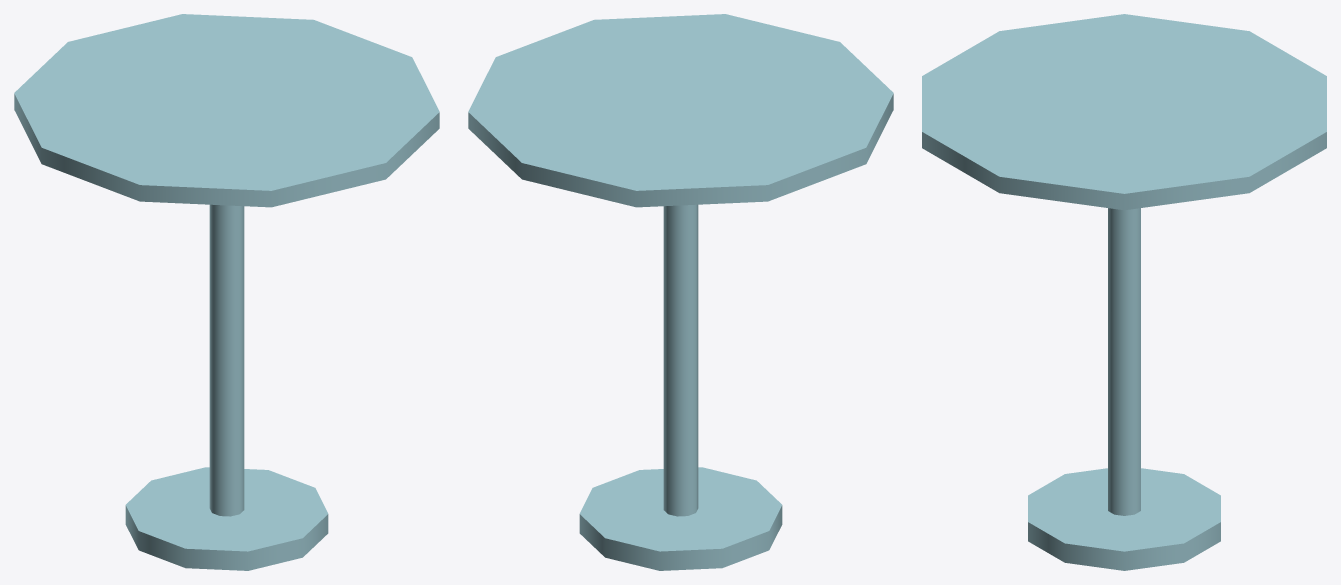
3 views of the same model, side by side, from view 1: azimuth 30°, elevation 25°; view 2: azimuth 150°, elevation 25°; view 3: azimuth 270°, elevation 25° (orthographic).
Visible parts, largest first — view 1: table_017; view 2: table_017; view 3: table_017.
Part boxes in pixels (x1,y1,x2,y2): table_017: (14, 14, 439, 570); table_017: (468, 14, 893, 570); table_017: (922, 14, 1326, 570).
Size of the model in its own units: 0.9263 by 1.02 by 0.881.
